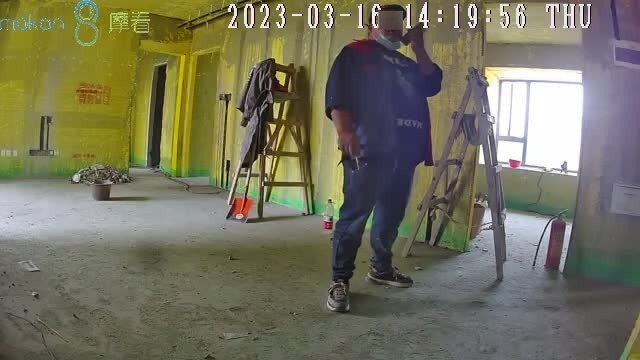people: (324, 1, 443, 313)
window: (496, 76, 583, 175)
